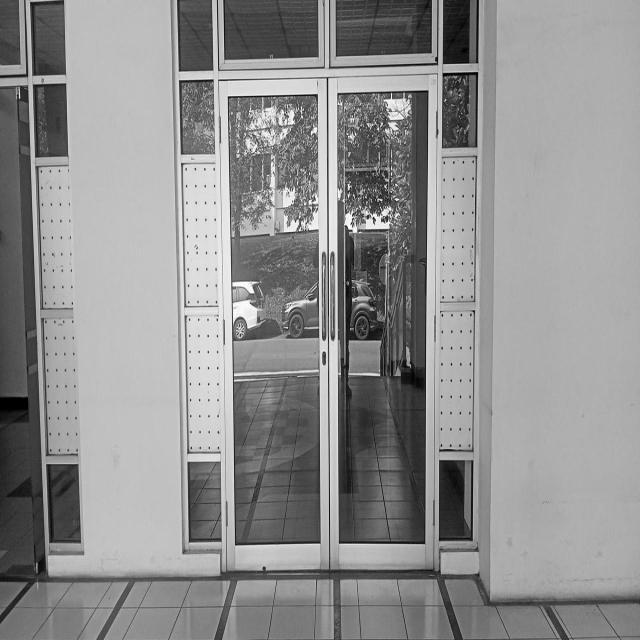door: (215, 72, 440, 572)
